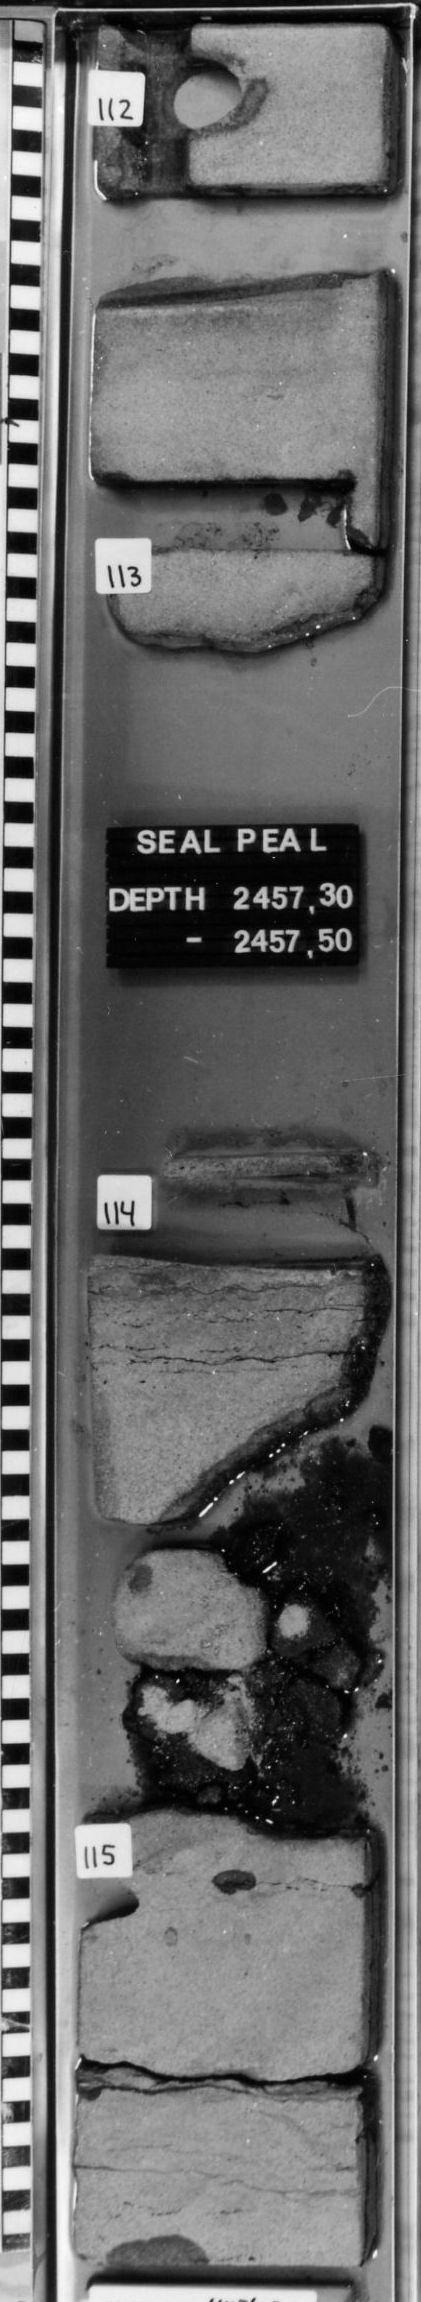hplug: (97, 465, 365, 567), (150, 1167, 367, 1279), (166, 54, 266, 150), (84, 1876, 154, 1936)
scal: (101, 181, 386, 310)
vplug: (109, 29, 202, 186)
